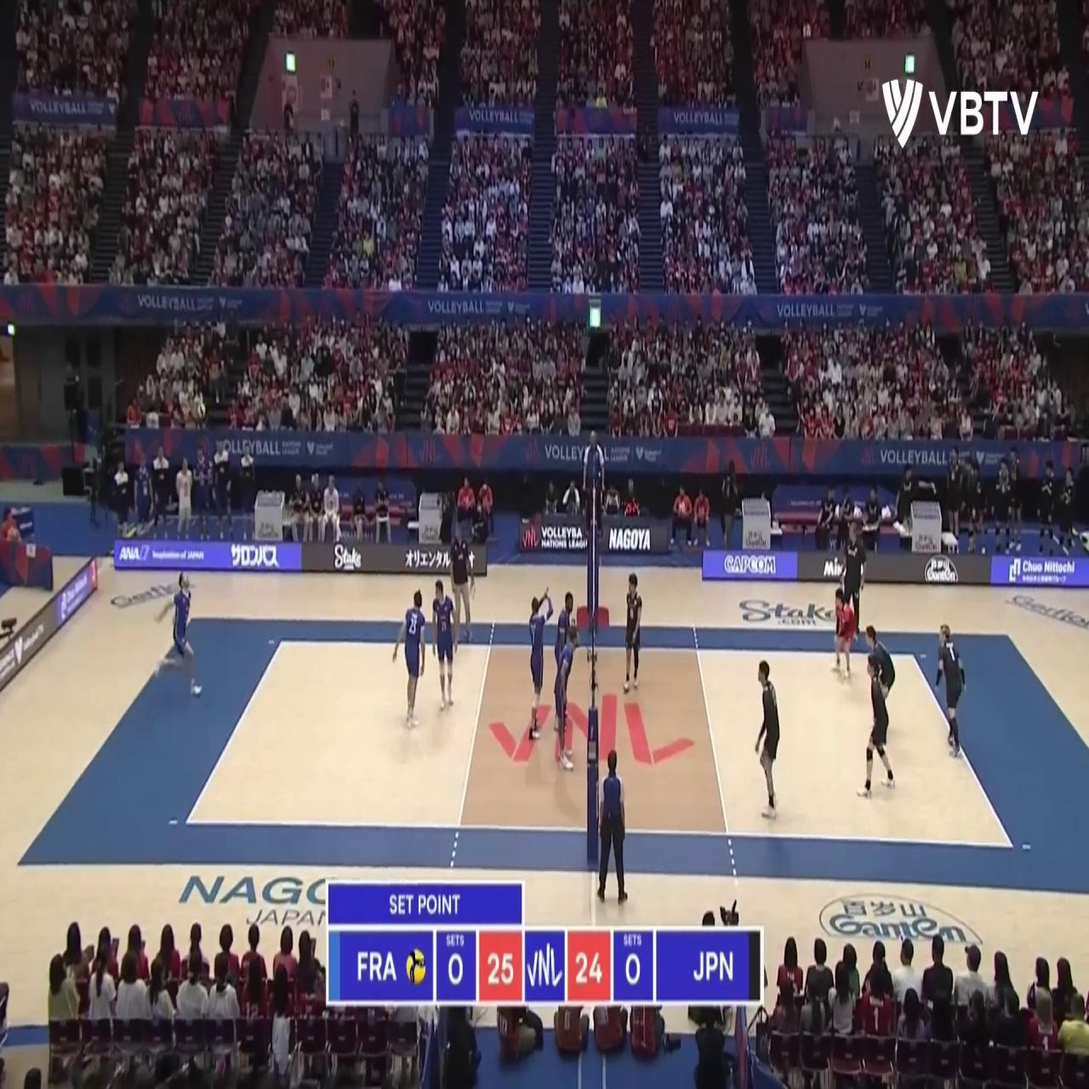ball: (197, 402, 206, 419)
